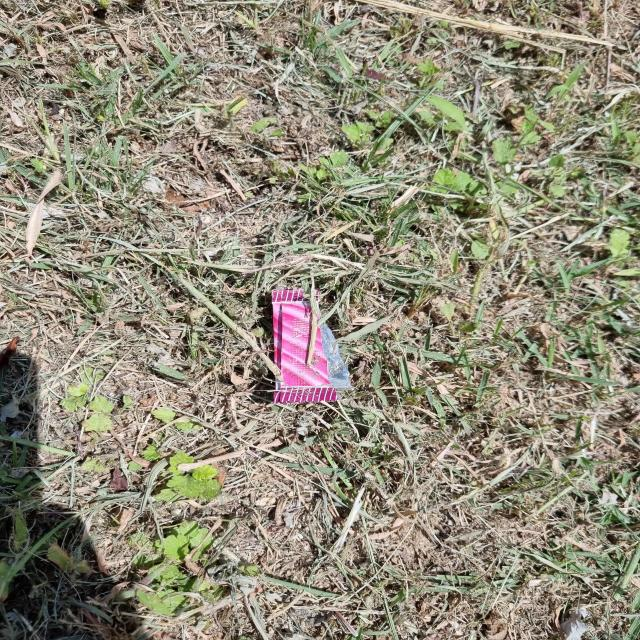litter: (271, 288, 354, 404)
